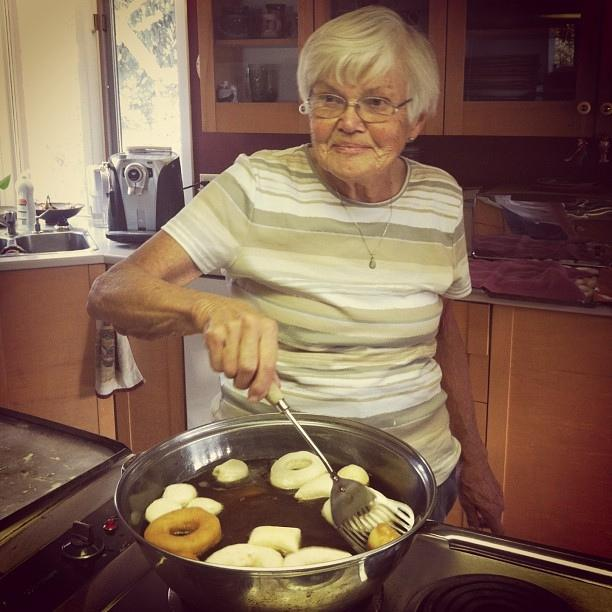onion: (321, 485, 386, 530), (162, 482, 198, 508), (212, 458, 248, 483)
